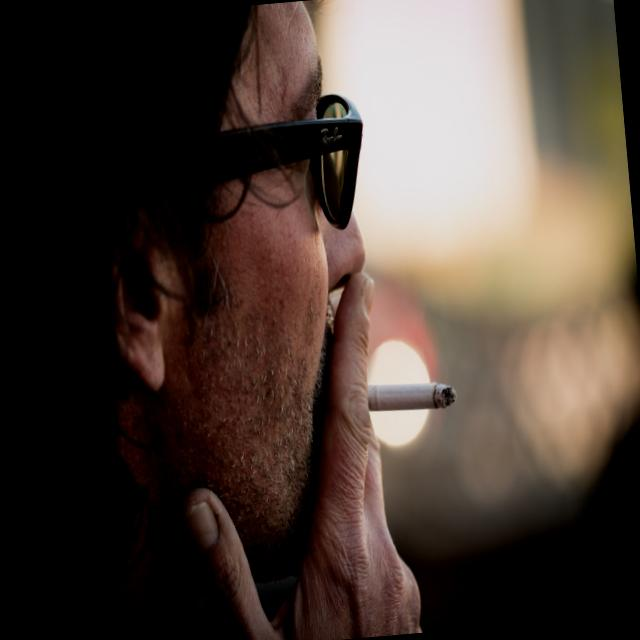cigarette: (365, 354, 461, 440)
